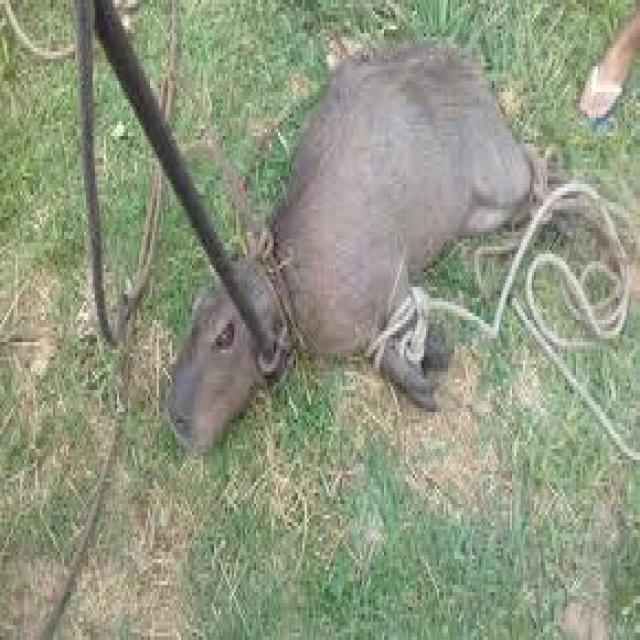capy: (170, 44, 572, 462)
